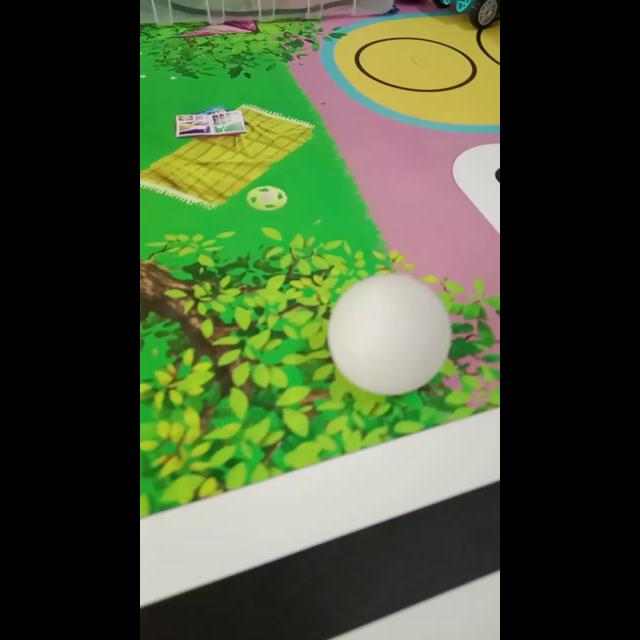white ball: (326, 272, 452, 396)
